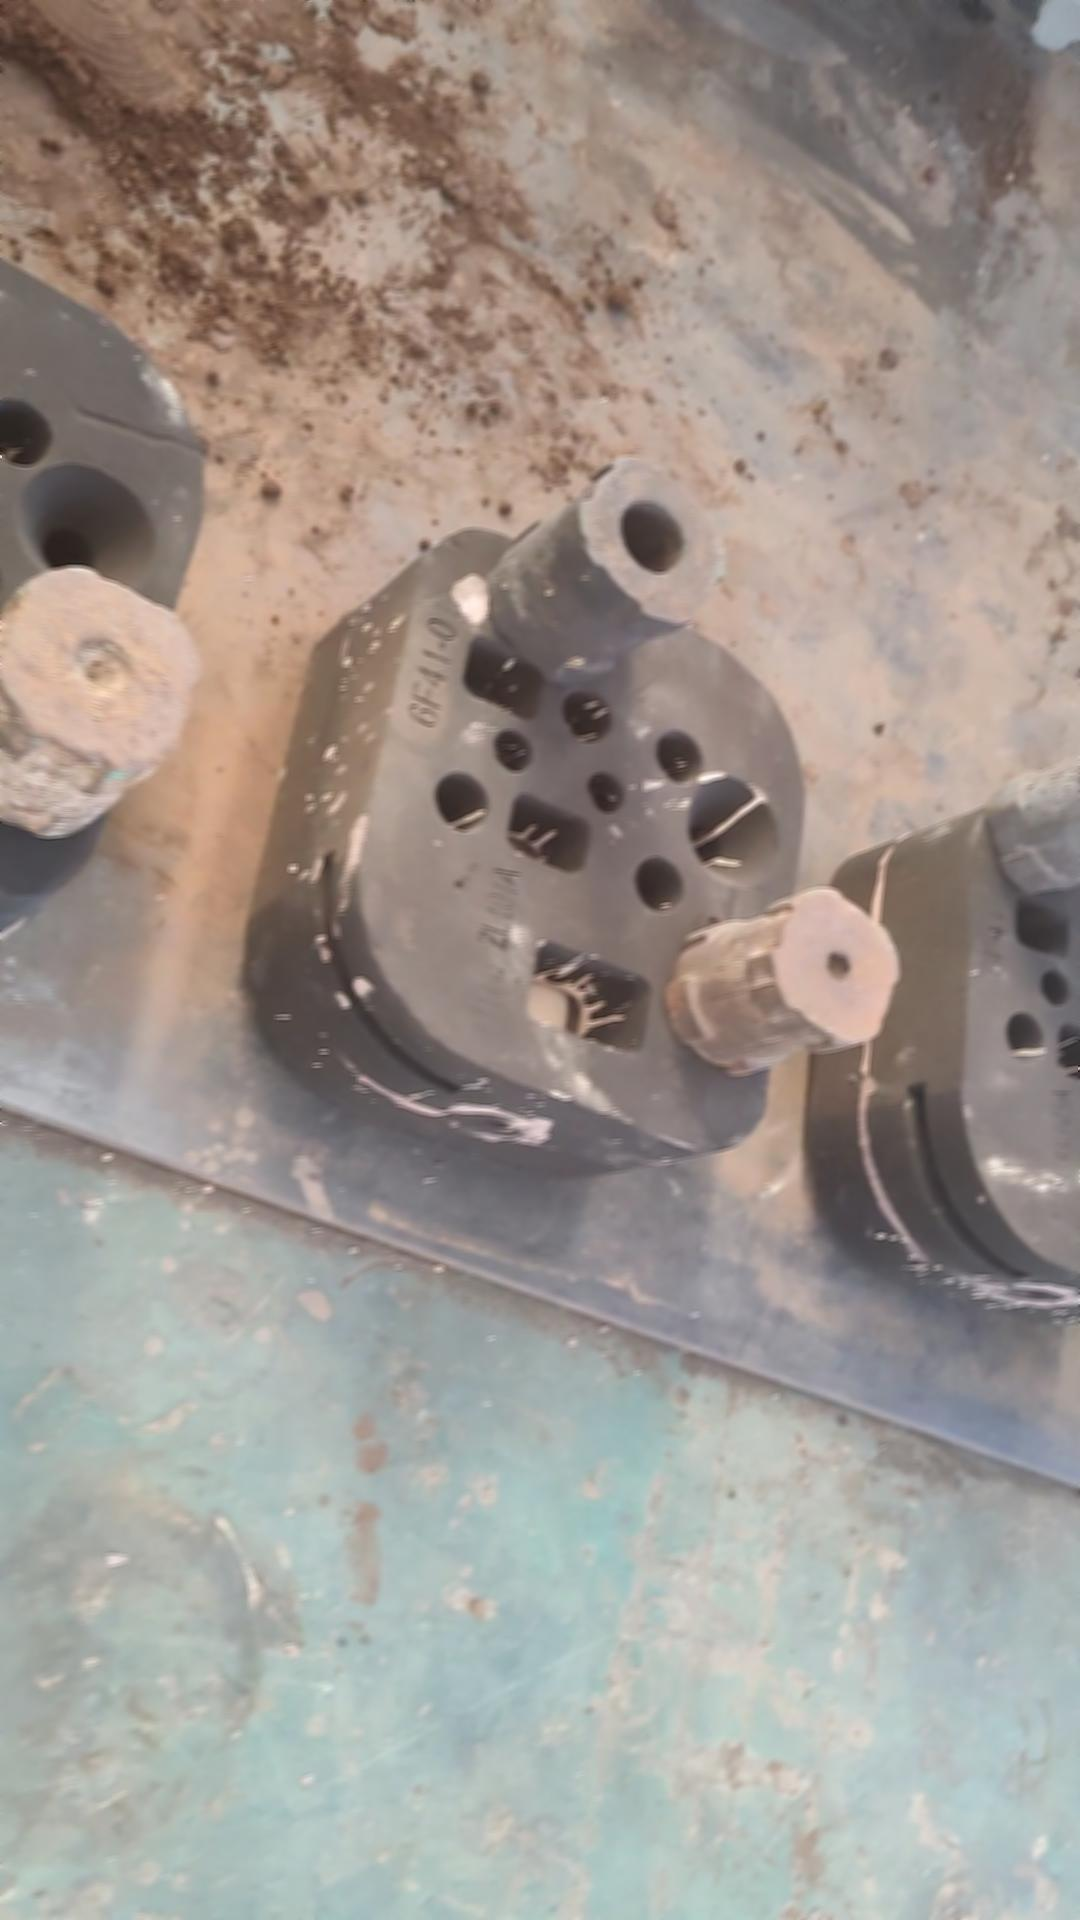pouring hole: (15, 462, 157, 585), (688, 775, 782, 886)
